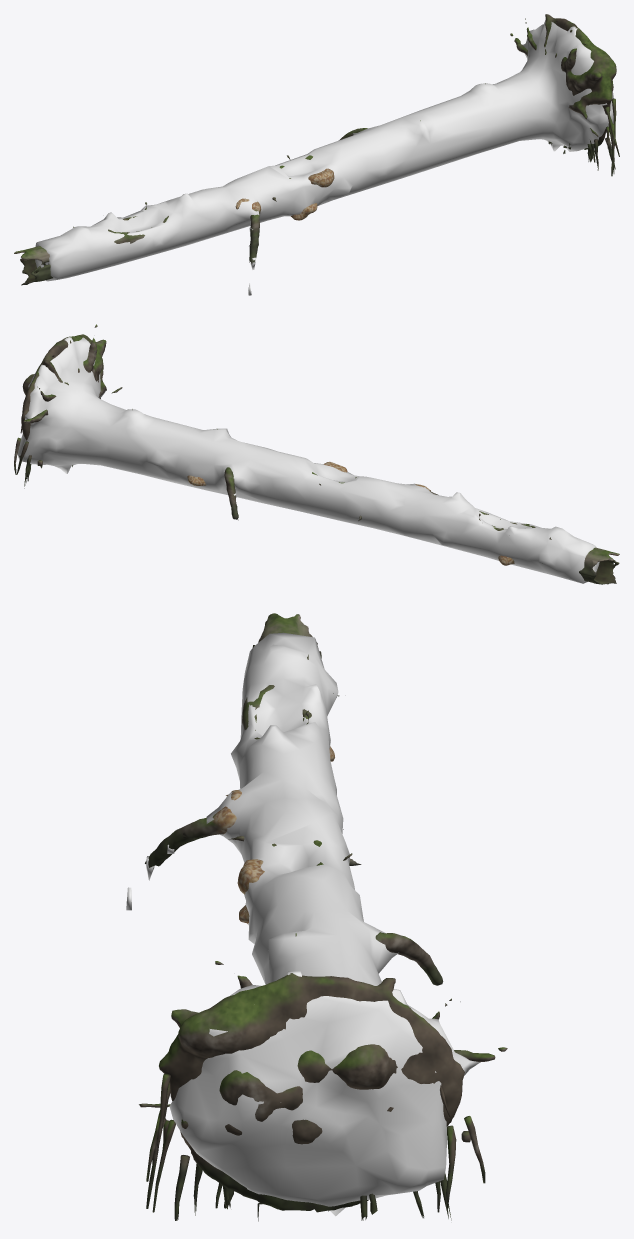
Rendered from LM_AncientFallenTree.fbx.
3 views of the same model, one above another, from view 1: azimuth 30°, elevation 25°; view 2: azimuth 150°, elevation 25°; view 3: azimuth 270°, elevation 25° (orthographic). The views are drawn at different scales.
Parts seen in each view (by area): view 1: LM_AncientFallenTree_COL, LM_AncientFallenTree_LOD0; view 2: LM_AncientFallenTree_COL, LM_AncientFallenTree_LOD0; view 3: LM_AncientFallenTree_COL, LM_AncientFallenTree_LOD0.
Boxes of the visible parts, <box> form: LM_AncientFallenTree_COL: <box>35,19,613,295</box>; LM_AncientFallenTree_LOD0: <box>14,14,619,285</box>; LM_AncientFallenTree_COL: <box>17,337,599,583</box>; LM_AncientFallenTree_LOD0: <box>14,324,619,584</box>; LM_AncientFallenTree_COL: <box>126,632,479,1216</box>; LM_AncientFallenTree_LOD0: <box>139,613,507,1221</box>.
Size of what is drawn, in the model's own units: 38.27 by 9.27 by 11.07.
